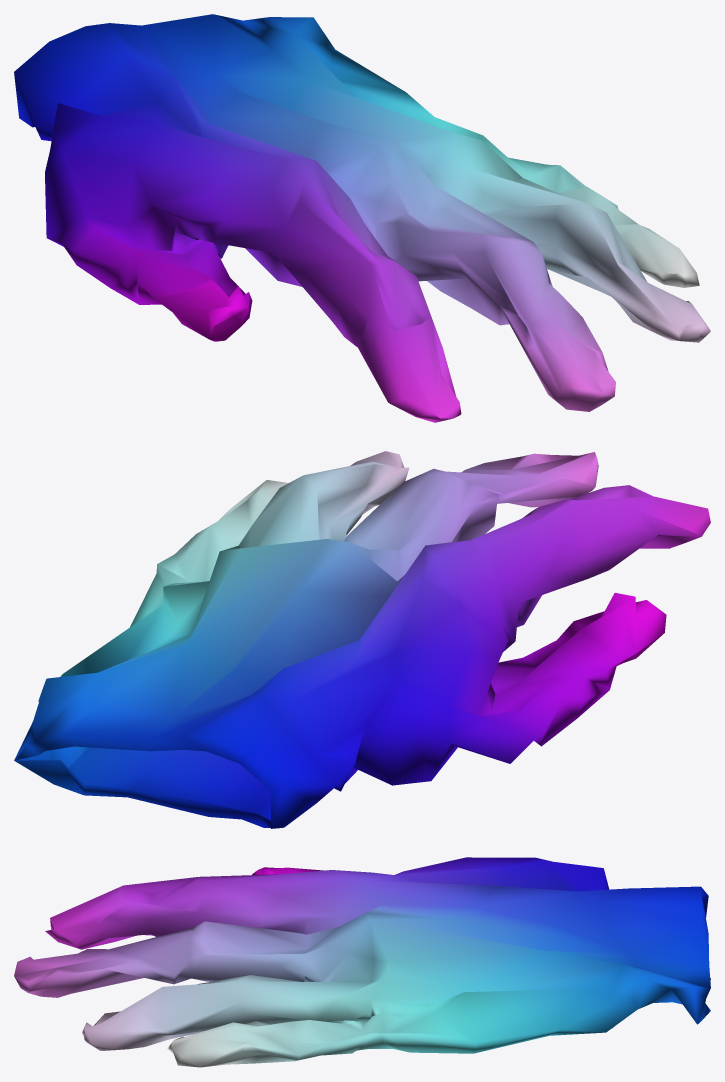
The model's file is gloveLeft_v01.fbx.
The picture shows the model from 3 angles, top to bottom: view 1: azimuth 30°, elevation 25°; view 2: azimuth 150°, elevation 25°; view 3: azimuth 270°, elevation 25°; orthographic projection. The views are drawn at different scales.
Parts seen in each view (by area): view 1: gloveLeft; view 2: gloveLeft; view 3: gloveLeft.
Boxes of the visible parts, x1,y1,x2,y2 form: gloveLeft: (14,14,710,422); gloveLeft: (14,451,710,828); gloveLeft: (14,857,710,1067).
Size of the model in its own units: 0.114 by 0.0278 by 0.1949.
